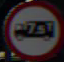Heavy Vehicles: (6, 3, 58, 50)
